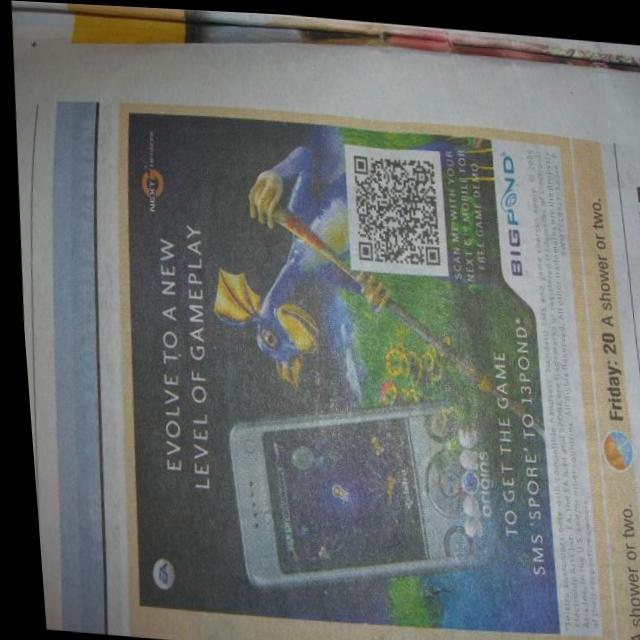qrcode: (348, 150, 441, 262)
